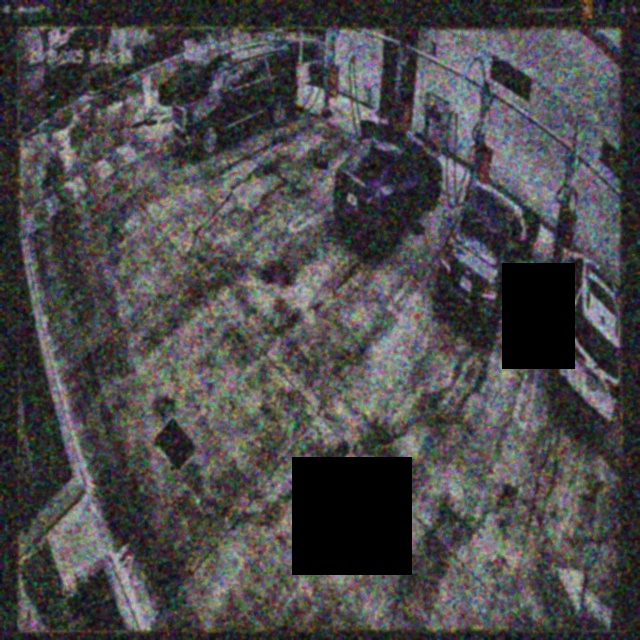Car: (333, 124, 442, 250), (439, 185, 522, 329)
